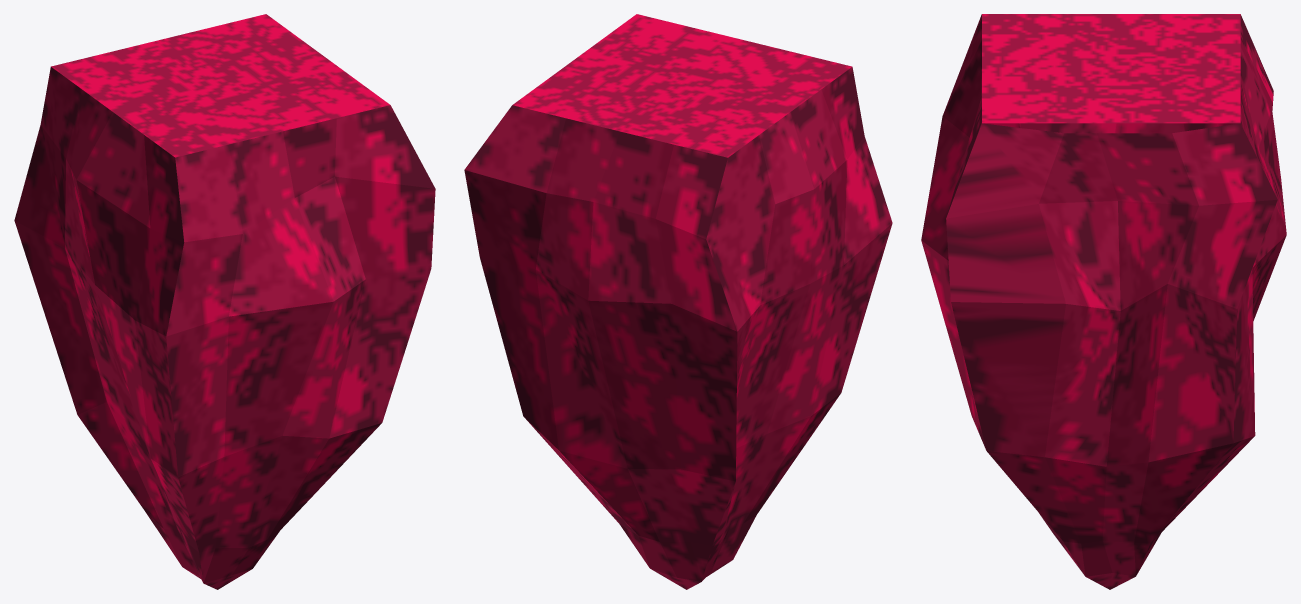
The model's file is Block2.fbx.
The picture shows the model from 3 angles, left to right: view 1: azimuth 30°, elevation 25°; view 2: azimuth 150°, elevation 25°; view 3: azimuth 270°, elevation 25°; orthographic projection. The views are drawn at different scales.
Visible parts, largest first — view 1: Cube; view 2: Cube; view 3: Cube.
Boxes of the visible parts, <box> form: Cube: <box>14,14,435,589</box>; Cube: <box>464,14,892,589</box>; Cube: <box>921,14,1286,589</box>.
Bounding box in the file's own units: 11.3 × 10.38 × 17.84.
Materials: 1 (1 with a texture image).
